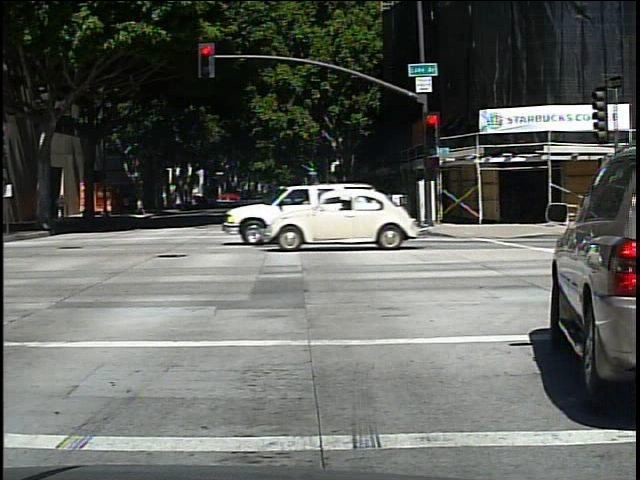person: (58, 189, 70, 223)
